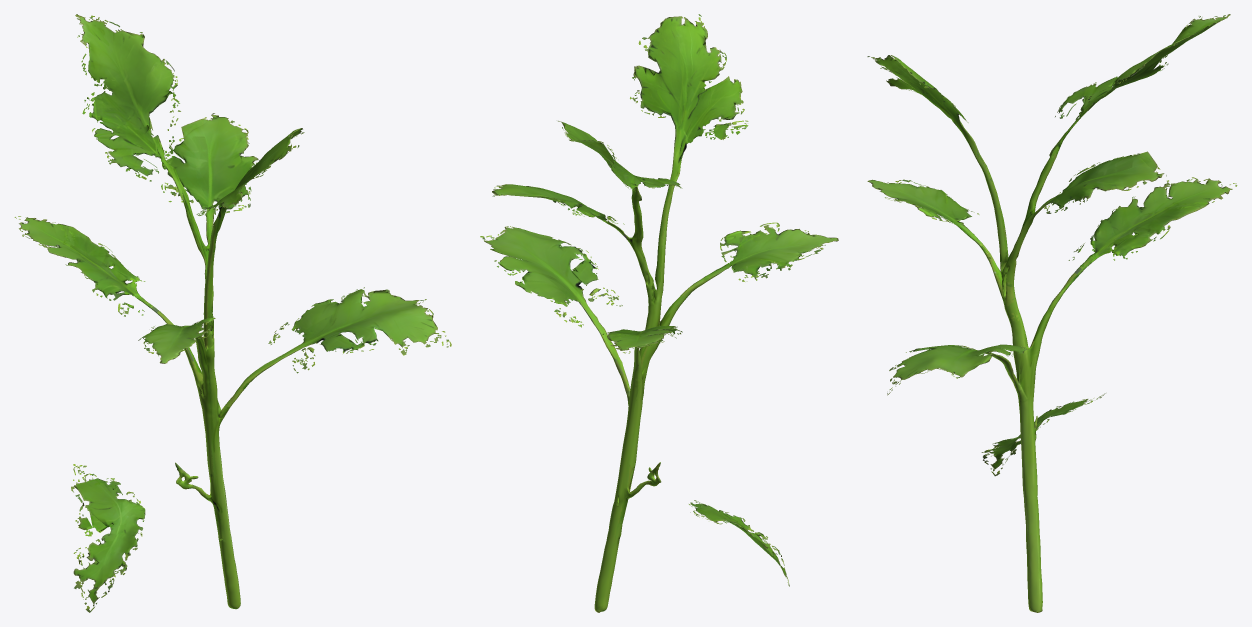
Rendered from una_hoja_de_cilantro__0807130029_texture.fbx.
The picture shows the model from 3 angles, left to right: view 1: azimuth 30°, elevation 25°; view 2: azimuth 150°, elevation 25°; view 3: azimuth 270°, elevation 25°; orthographic projection. The views are drawn at different scales.
Visible parts, largest first — view 1: Mesh1.0; view 2: Mesh1.0; view 3: Mesh1.0.
Boxes of the visible parts, x1,y1,x2,y2 form: Mesh1.0: (14,14,451,612); Mesh1.0: (480,14,838,612); Mesh1.0: (867,14,1237,612).
Bounding box in the file's own units: 123 × 195 × 116.
Materials: 1 (1 with a texture image).
